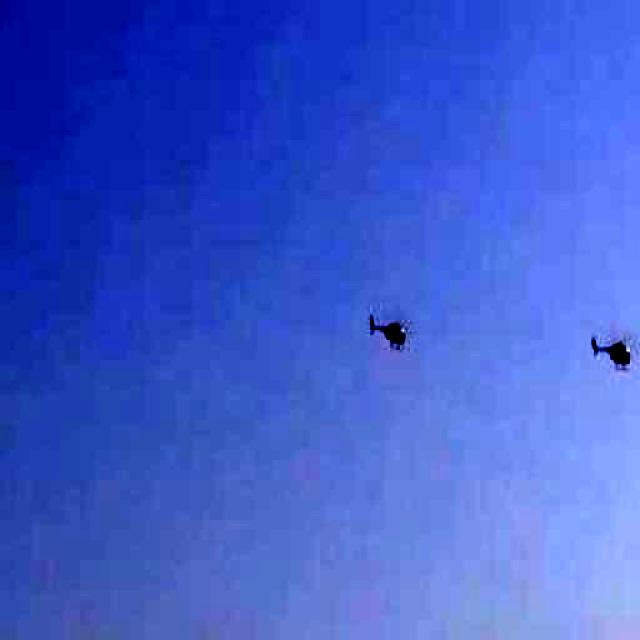drone: (355, 299, 421, 362), (581, 314, 640, 382)
